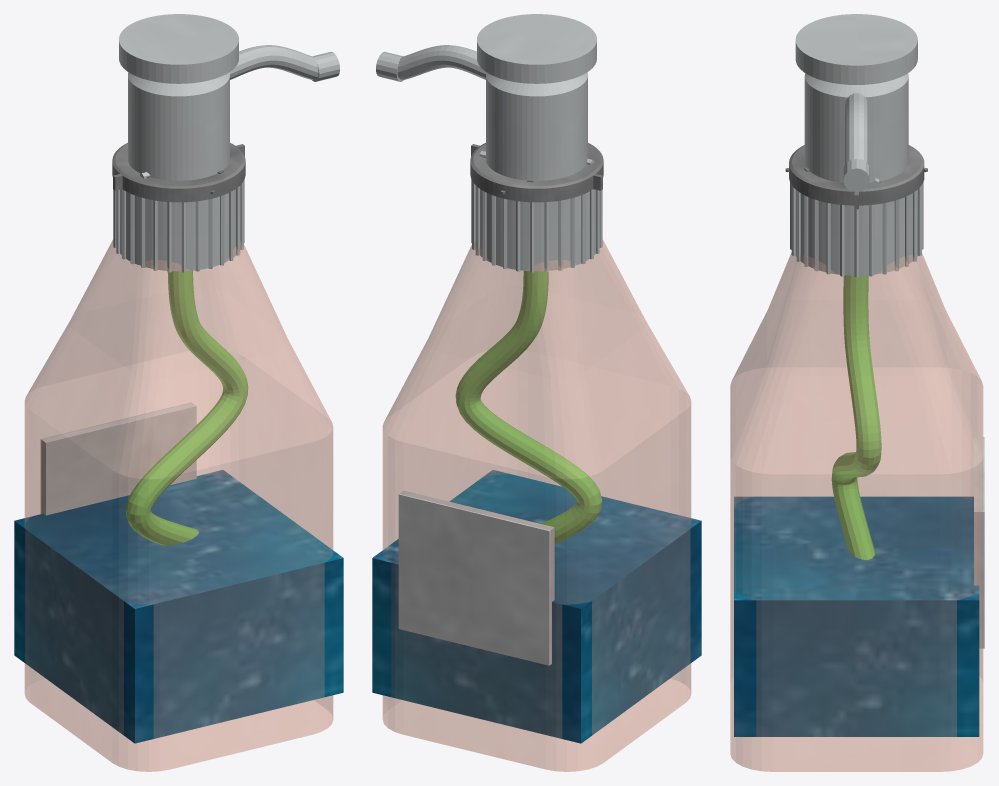
File: Container_Dispenser__0055.glb
3 renders of one model, left to right at view 1: azimuth 30°, elevation 25°; view 2: azimuth 150°, elevation 25°; view 3: azimuth 270°, elevation 25°, orthographic.
Visible parts, largest first — view 1: bottle::bottle_shell, bottle::liquid_fill, pump_head::pump_head_shell, bottle::front_label, collar::collar_shell, dip_tube::dip_tube, lock_ring::lock_ring_shell, spout::spout_shell; view 2: bottle::bottle_shell, bottle::liquid_fill, bottle::front_label, pump_head::pump_head_shell, dip_tube::dip_tube, collar::collar_shell, lock_ring::lock_ring_shell, spout::spout_shell; view 3: bottle::bottle_shell, bottle::liquid_fill, pump_head::pump_head_shell, collar::collar_shell, dip_tube::dip_tube, lock_ring::lock_ring_shell, spout::spout_shell, bottle::front_label.
Boxes of the visible parts, x1,y1,x2,y2 form: bottle::bottle_shell: (24,240,333,771); bottle::liquid_fill: (14,470,343,743); pump_head::pump_head_shell: (119,14,238,180); bottle::front_label: (40,402,196,515); collar::collar_shell: (113,179,244,272); dip_tube::dip_tube: (125,270,248,545); lock_ring::lock_ring_shell: (112,143,245,202); spout::spout_shell: (229,45,339,81); bottle::bottle_shell: (382,240,691,771); bottle::liquid_fill: (372,470,701,743); bottle::front_label: (398,490,554,665); pump_head::pump_head_shell: (477,14,596,180); dip_tube::dip_tube: (455,271,602,543); collar::collar_shell: (471,179,602,272); lock_ring::lock_ring_shell: (470,143,603,202); spout::spout_shell: (376,45,486,81); bottle::bottle_shell: (730,253,983,771); bottle::liquid_fill: (734,496,979,736); pump_head::pump_head_shell: (795,14,917,184); collar::collar_shell: (790,182,923,277); dip_tube::dip_tube: (831,275,881,559); lock_ring::lock_ring_shell: (785,145,927,209); spout::spout_shell: (843,93,869,192); bottle::front_label: (974,437,984,648).
Size of the model in its own units: 0.1008 by 0.2449 by 0.0832.
Materials: 6 (6 with a texture image).
